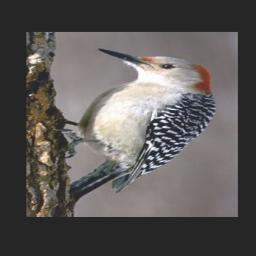Woodpecker: (55, 48, 217, 194)
